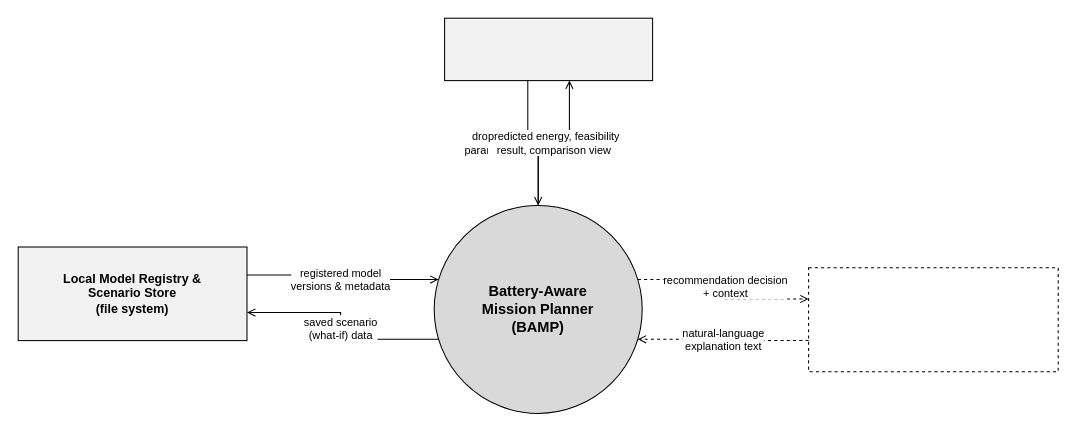
This 1076x432 diagram has some shape labels left out. Here are the shapes that lost their labels. From the top down, the centre of each, then its label:
(x=548, y=49): Operator (Mission Planner / UAV Operator)
(x=933, y=319): AI Explanation Service (external API, e.g. Claude/OpenAI) [Tier 2 - optional]
